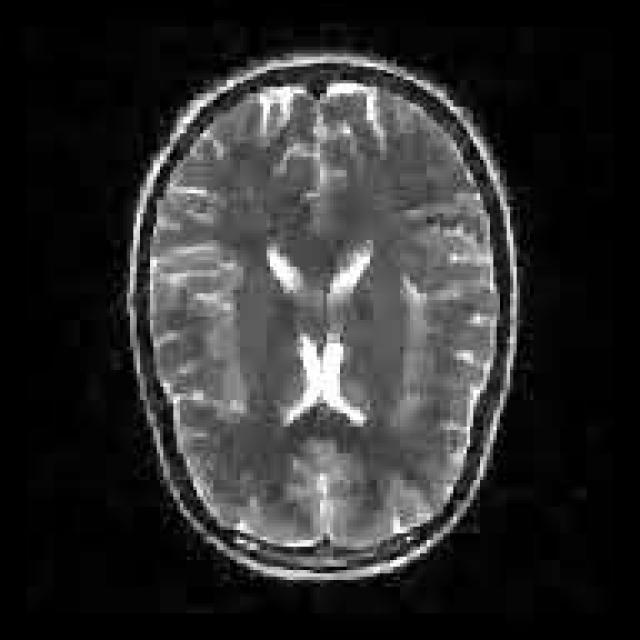notumor: (120, 53, 527, 587)
